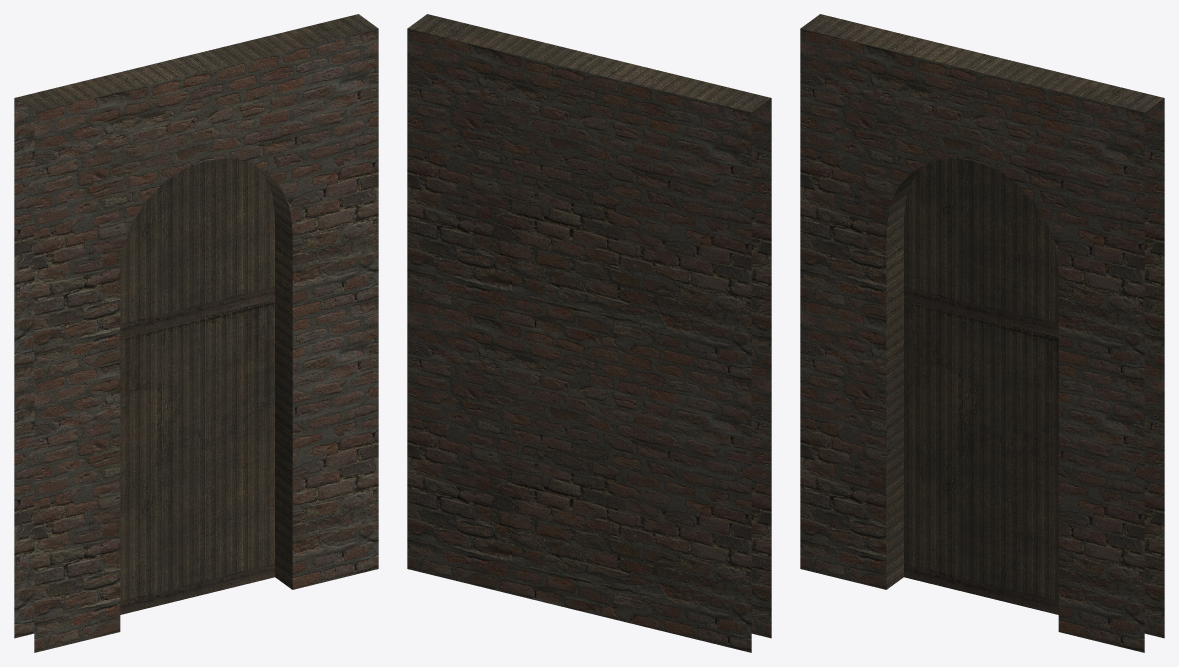
The model's file is wall_hr_15_double.obj.
3 views of the same model, side by side, from view 1: azimuth 30°, elevation 25°; view 2: azimuth 150°, elevation 25°; view 3: azimuth 330°, elevation 25° (orthographic).
Parts seen in each view (by area): view 1: wall_hr_15_double; view 2: wall_hr_15_double; view 3: wall_hr_15_double.
Boxes of the visible parts, x1,y1,x2,y2 form: wall_hr_15_double: (14,14,378,652); wall_hr_15_double: (407,14,771,652); wall_hr_15_double: (800,14,1164,652).
Bounding box in the file's own units: 4 × 6 × 0.4.
